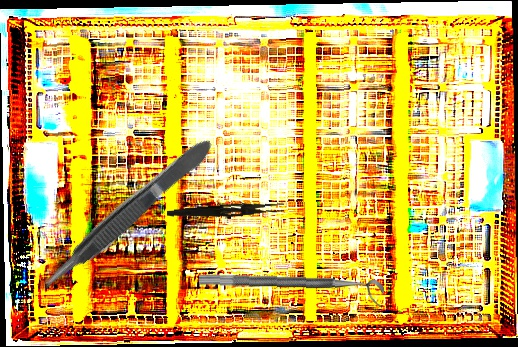Dressing Forceps: (166, 198, 285, 223)
Fixation Ring: (198, 272, 385, 308)
Tissue Forceps: (32, 134, 221, 298)
